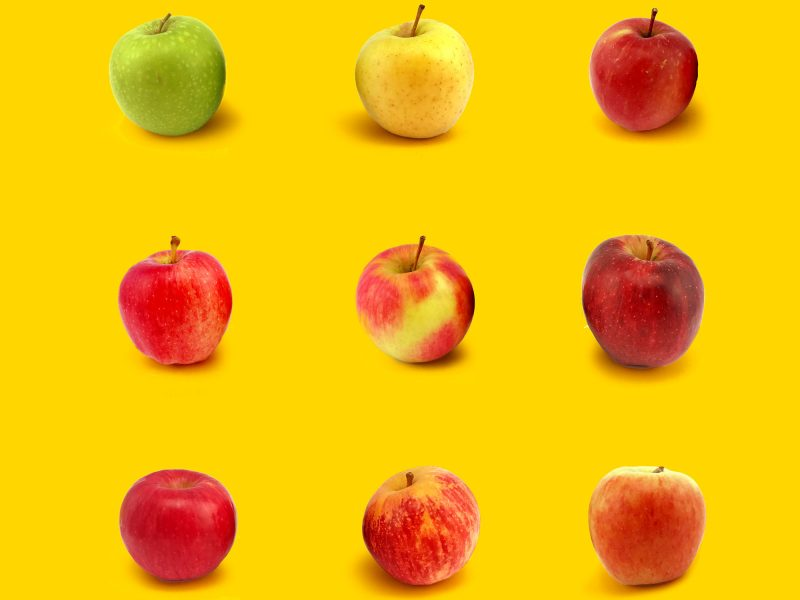elma: (354, 4, 477, 138), (581, 234, 704, 368), (117, 237, 233, 367), (356, 237, 473, 364), (588, 463, 708, 586), (108, 11, 226, 134), (363, 466, 481, 585), (590, 8, 699, 134), (118, 467, 237, 580)
